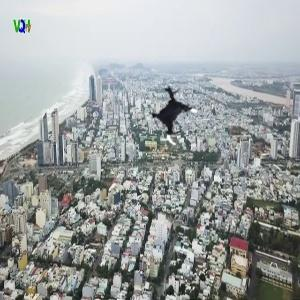drone: (143, 82, 210, 149)
